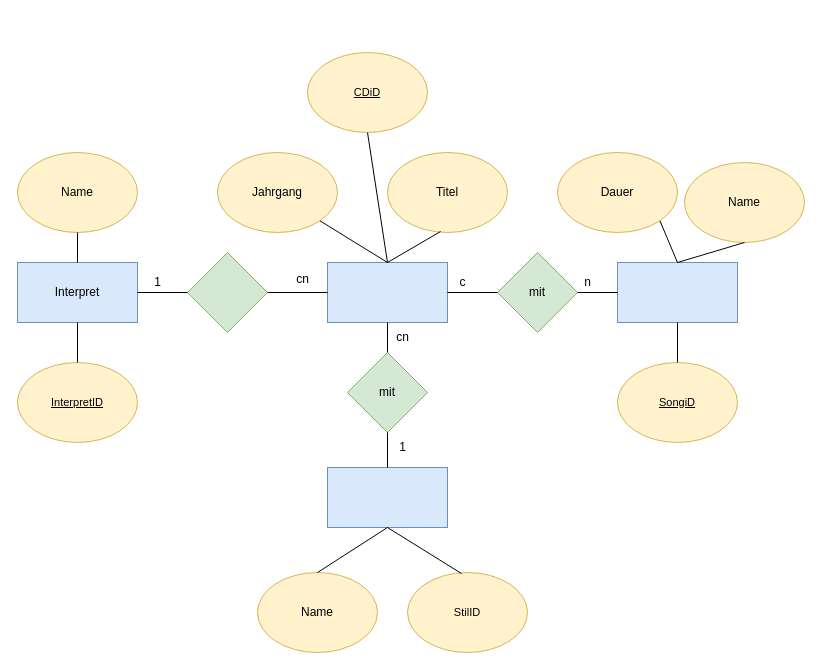
Some shapes in this 822 by 670 pixel diagram are drawn without their labels. The shapes that lost their labels are listed below. From the top down, each one's centre as x and y in pixels, then its label:
(227,292): hat
(387,292): CD
(677,292): Songs
(387,497): Musikstil
